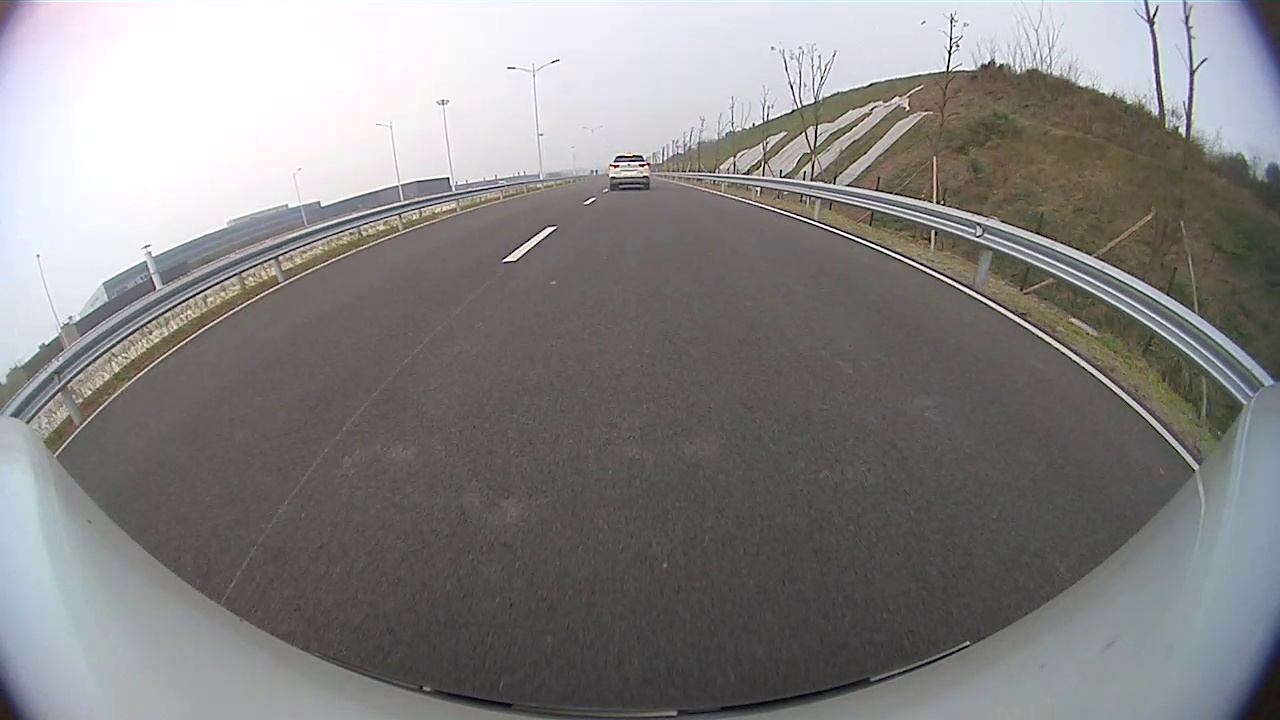car: (606, 151, 656, 195)
